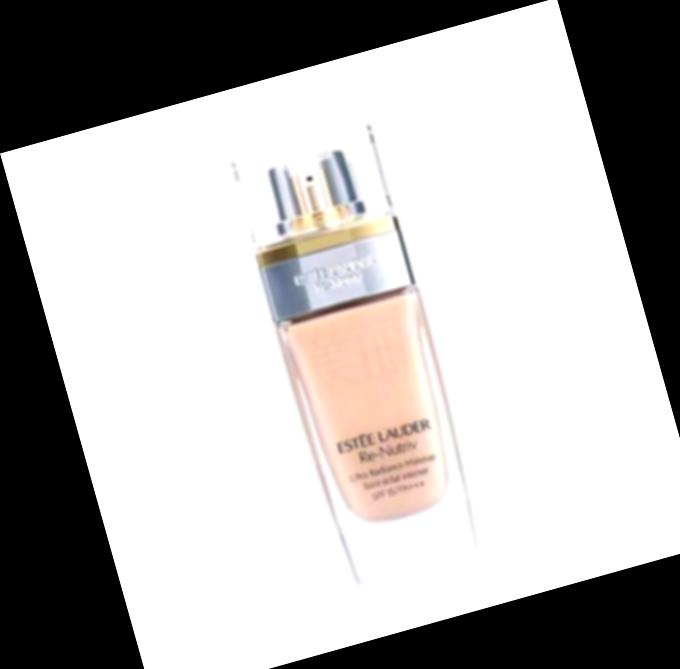cosmetic: (230, 123, 487, 589)
